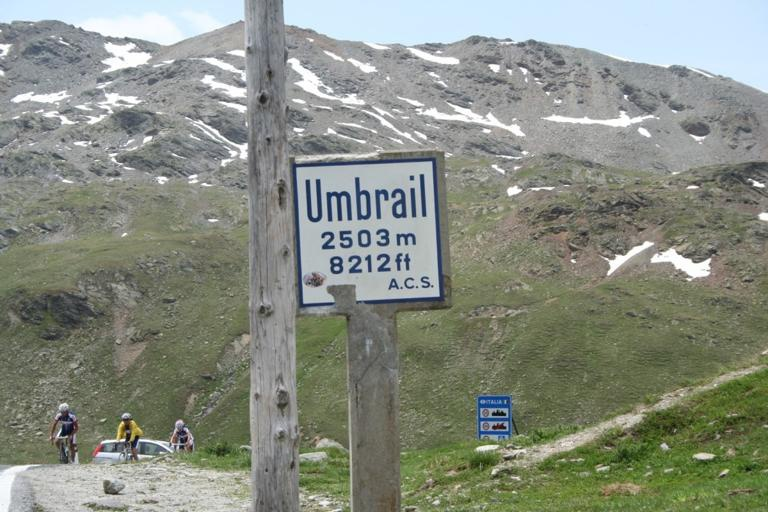non-vehicle: (50, 433, 79, 464), (117, 439, 144, 464), (167, 441, 191, 453)
